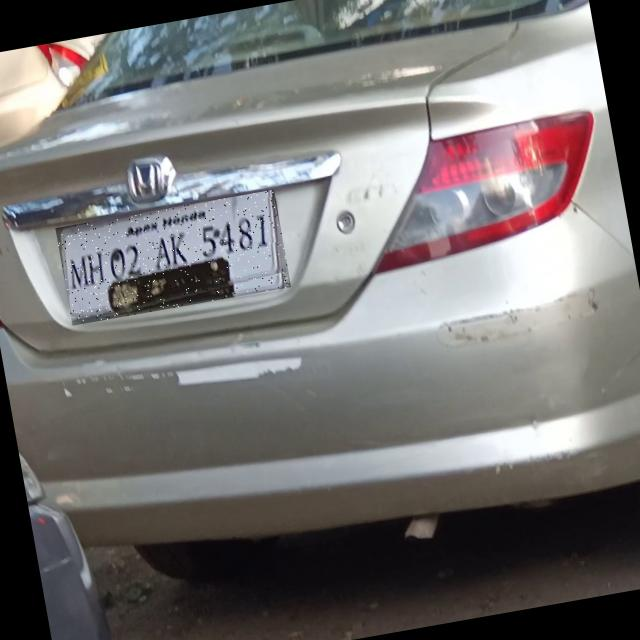Plate: (56, 190, 292, 326)
